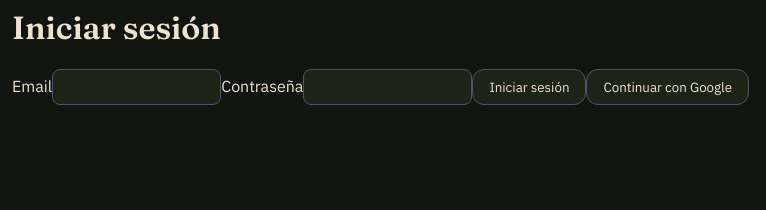
Test: LoginForm › muestra un error cuando las credenciales son invalidas, sin navegar
Type "user@example.com" into the field labelled "Email". click: point(137, 87)
box: [52,69,221,105]
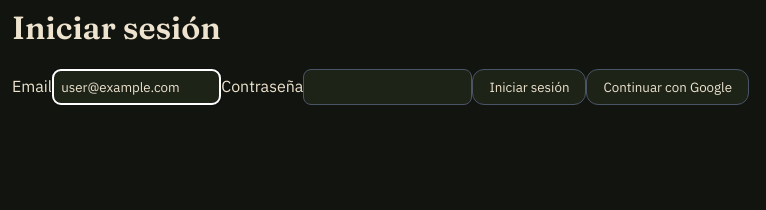
Type "mala-clave" into the password field labelled "Contraseña". click: point(388, 87)
box: [303,69,472,105]
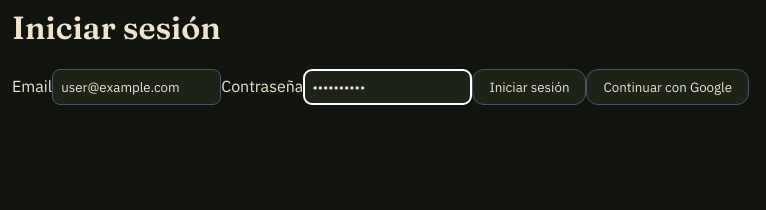
Click the button "Iniciar sesión". click: point(529, 87)
box: [472,69,586,105]
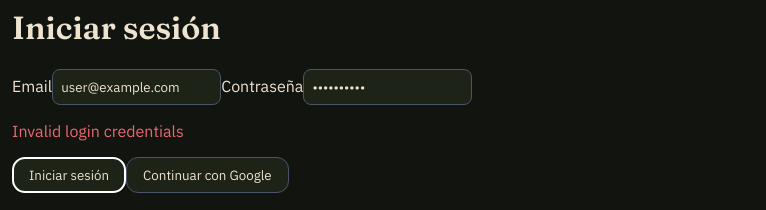
Expected: the text "Invalid login credentials" is shown, [12,121,184,141]
